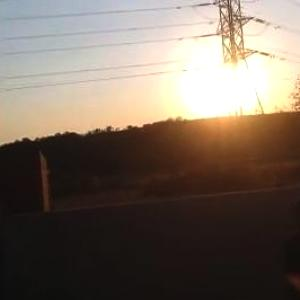follow: (278, 186, 299, 299)
